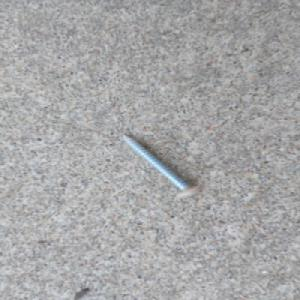Screw: (119, 133, 204, 200)
